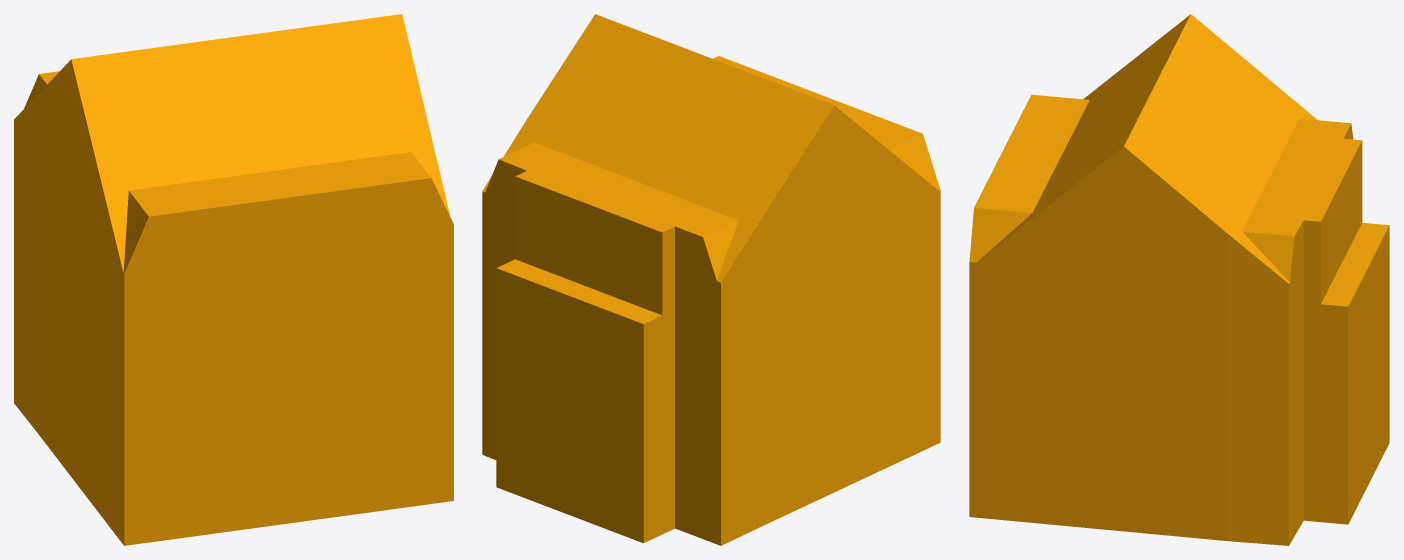
Rendered from DEHB01ALn0001NgK.gltf.
3 renders of one model, left to right at view 1: azimuth 30°, elevation 25°; view 2: azimuth 150°, elevation 25°; view 3: azimuth 270°, elevation 25°, orthographic. The views are drawn at different scales.
Parts seen in each view (by area): view 1: Z_UP; view 2: Z_UP; view 3: Z_UP.
Boxes of the visible parts, left/top/right/bottom form: Z_UP: left=14, top=14, right=453, bottom=545; Z_UP: left=482, top=14, right=940, bottom=545; Z_UP: left=969, top=14, right=1389, bottom=545.
Bounding box in the file's own units: 15.07 × 16.82 × 16.63.
